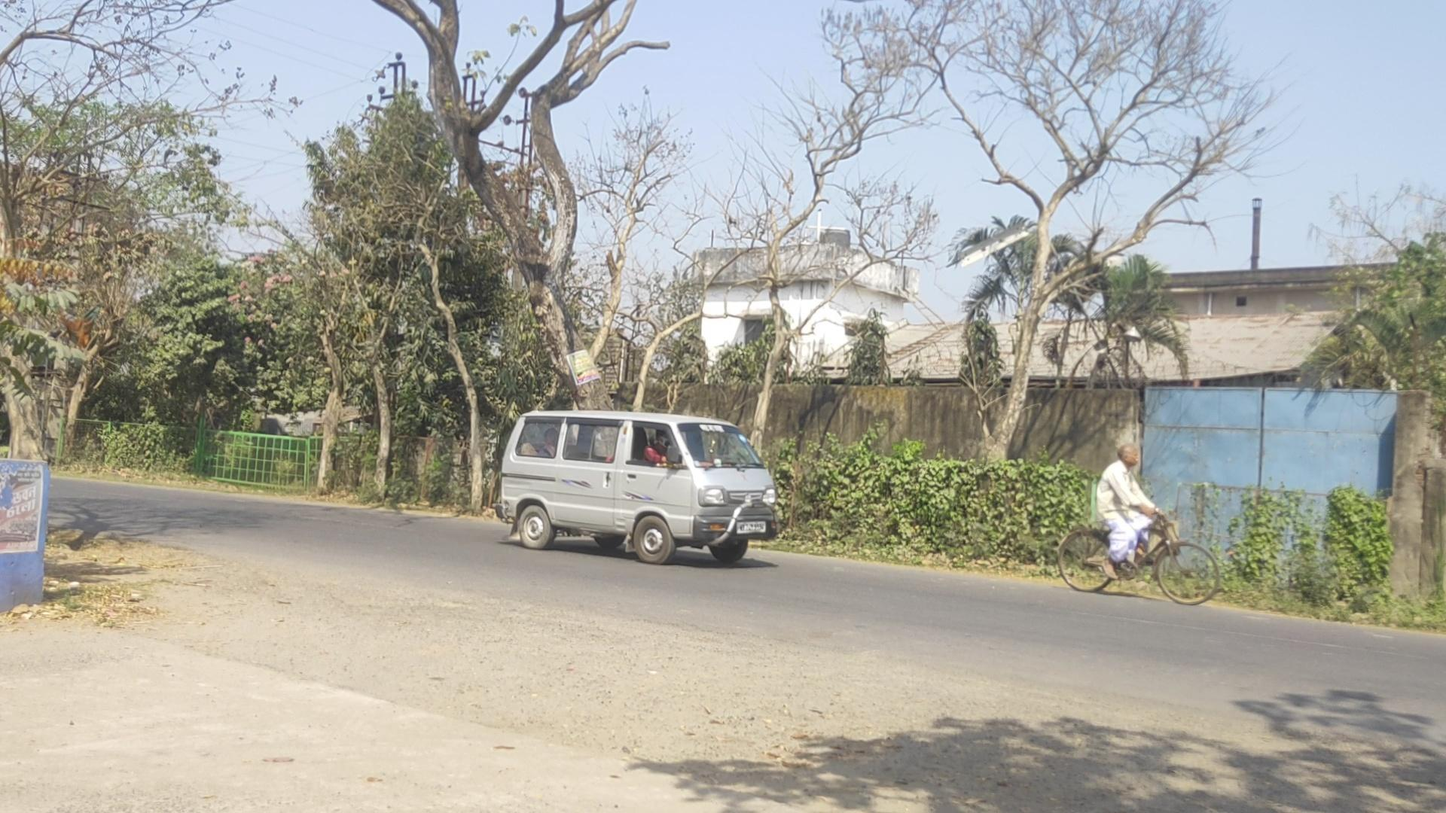bike: (1057, 443, 1219, 606)
van: (496, 410, 776, 566)
